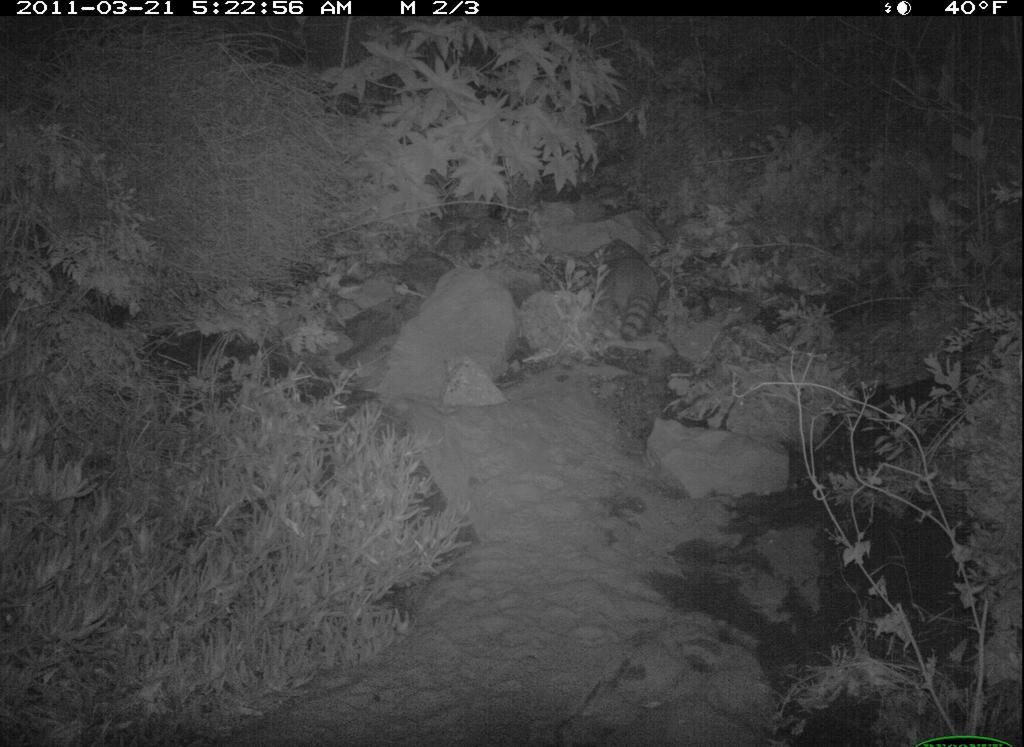raccoon: (587, 233, 665, 345)
